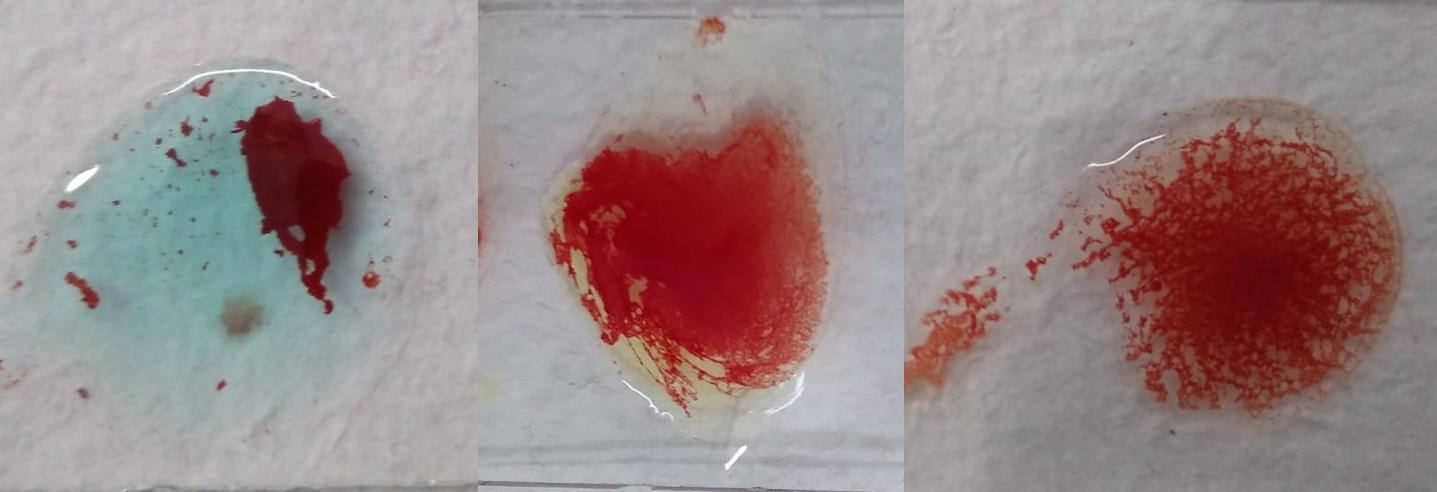A: (49, 64, 394, 376)
B: (563, 47, 824, 416)
D: (1070, 94, 1386, 403)
